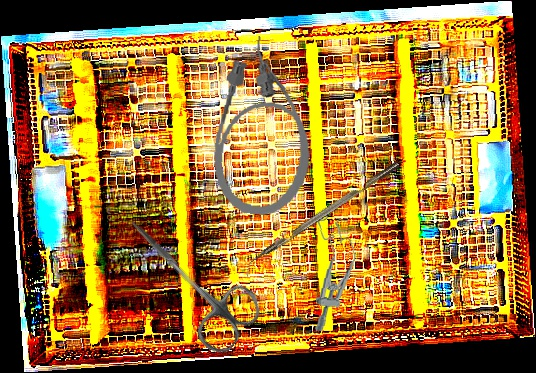Cannula: (207, 32, 322, 220)
Chopper: (238, 161, 406, 277)
Iris Scissors: (104, 197, 270, 360)
Speculum: (307, 214, 359, 334)
